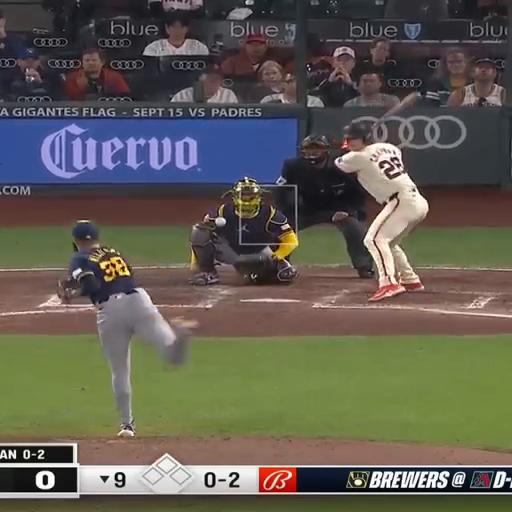bat: (372, 92, 417, 131)
